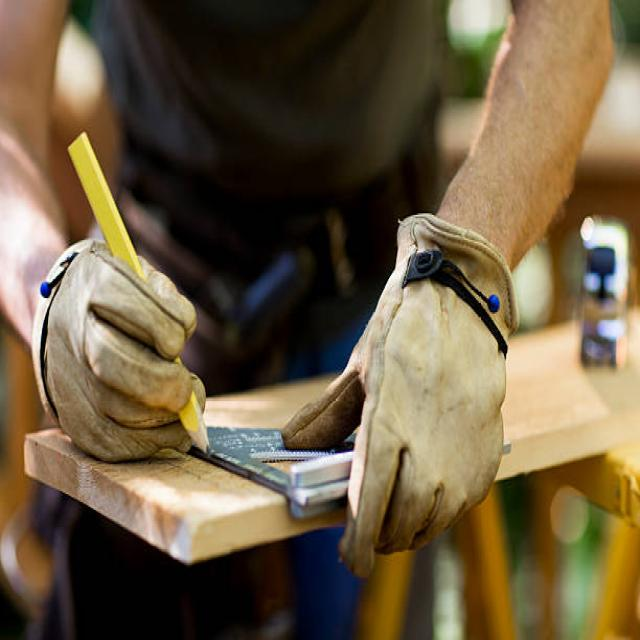gloves: (280, 210, 522, 580), (30, 240, 207, 456)
